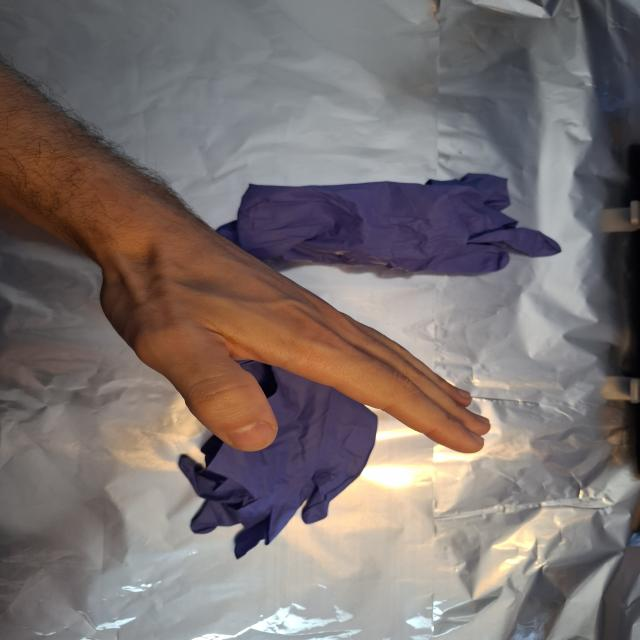glove_off: (94, 235, 494, 456)
